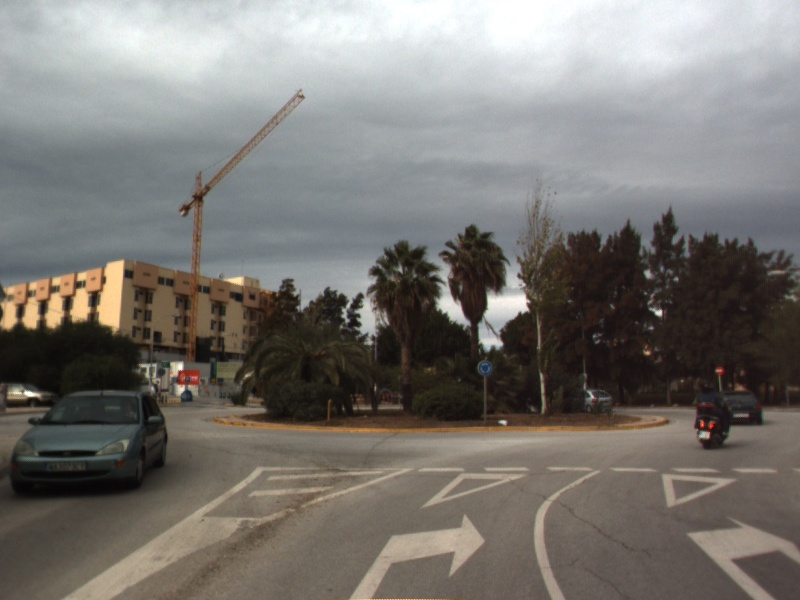RIGHT: (347, 508, 489, 600), (683, 511, 800, 600)
